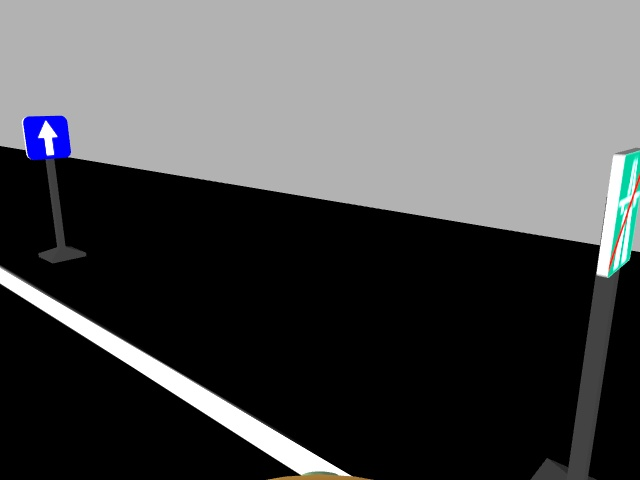HighwayExit: (594, 148, 639, 284)
OneWay: (18, 114, 73, 161)
